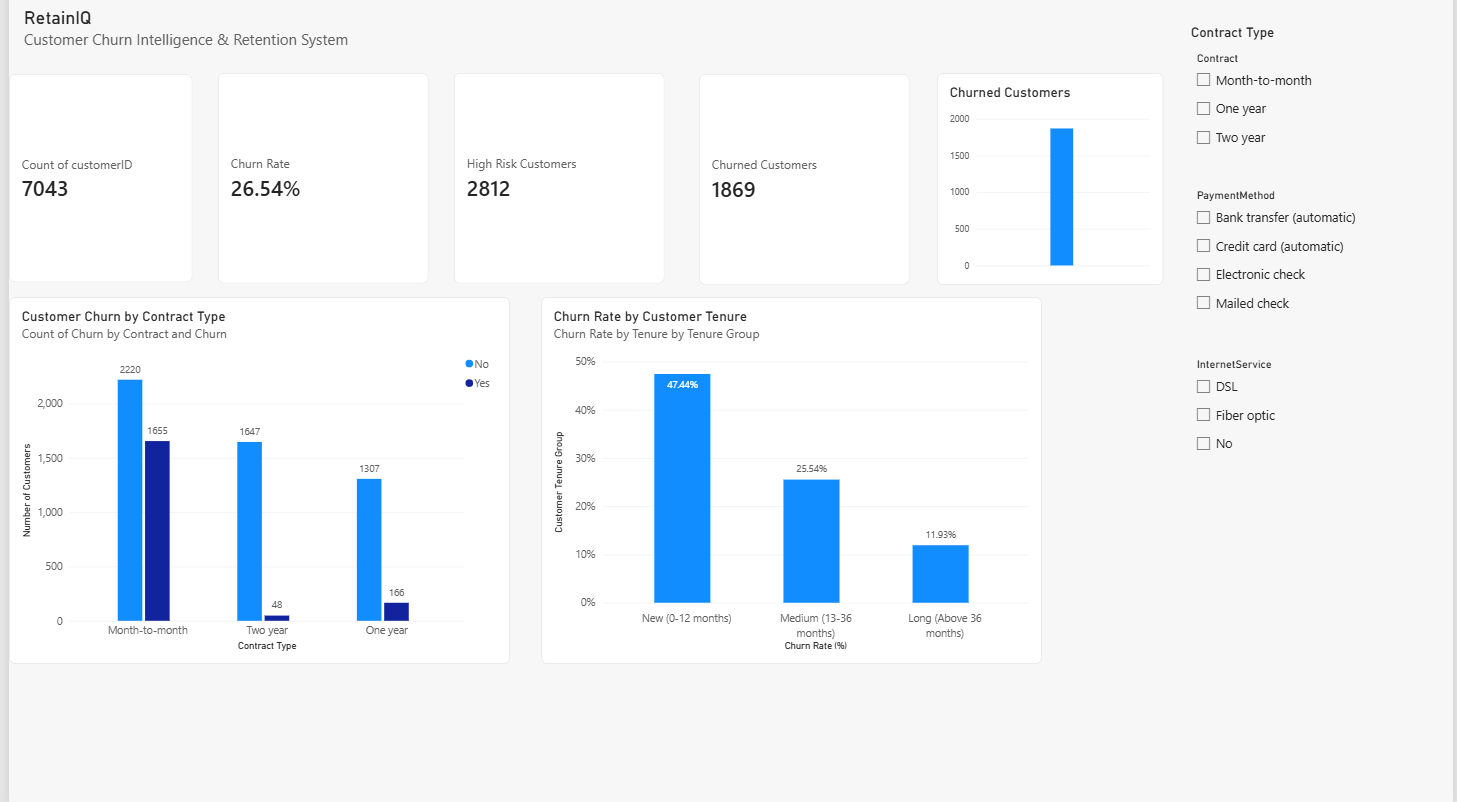

What the dashboard file says about the page in this screenshot:
{"tool":"powerbi","page":{"name":"Executive Overview","canvas":[1920,1080],"ordinal":0},"visuals":[{"type":"cardVisual","title":"Total Customers","fields":{"Data":["Count(customers_for_powerbi.customerID)"]},"box":[0,107.7,244.7,278],"z":0},{"type":"clusteredColumnChart","fields":{"Y":["customers_for_powerbi.Churned Customers"]},"box":[1234.3,106.4,300.6,282],"z":1000},{"type":"cardVisual","fields":{"Data":["customers_for_powerbi.Churn Rate"]},"box":[278,106.4,280,280],"z":2000},{"type":"cardVisual","fields":{"Data":["customer_risk_segments.High Risk Customers"]},"box":[591.9,106.4,280,280],"z":3000},{"type":"cardVisual","fields":{"Data":["customers_for_powerbi.Churned Customers"]},"box":[917.7,107.7,280,280],"z":4000},{"type":"clusteredColumnChart","title":"Customer Churn by Contract Type","fields":{"Category":["customers_for_powerbi.Contract"],"Series":["customers_for_powerbi.Churn"],"Y":["CountNonNull(customers_for_powerbi.Churn)"]},"box":[0,404.3,665.8,487.7],"z":5000},{"type":"clusteredColumnChart","title":"Churn Rate by Customer Tenure","fields":{"Category":["customers_for_powerbi.Tenure Group"],"Y":["customers_for_powerbi.Churn Rate by Tenure"]},"box":[707.6,404.3,665.8,487.7],"z":6000},{"type":"slicer","title":"Contract Type","fields":{"Values":["customers_for_powerbi.Contract"]},"box":[1572.1,41.2,332.9,248.2],"z":7000},{"type":"slicer","fields":{"Values":["customers_for_powerbi.InternetService"]},"box":[1572.1,485.5,252.6,248.2],"z":8000},{"type":"slicer","fields":{"Values":["customers_for_powerbi.PaymentMethod"]},"box":[1572.1,260.7,236.5,248.2],"z":9000},{"type":"textbox","title":"RetainIQ","box":[20,18.6,506.7,69.2],"z":9001}]}

Visuals, with their boxes in screenshot pixels (x1, y1, x2, y2), scaled from the page's 1920x1080 canvas onto the 1457x802 screenshot:
"Total Customers" cardVisual: 0 80 186 286
clusteredColumnChart - customers_for_powerbi.Churned Customers: 937 79 1165 288
cardVisual - customers_for_powerbi.Churn Rate: 211 79 423 287
cardVisual - customer_risk_segments.High Risk Customers: 449 79 662 287
cardVisual - customers_for_powerbi.Churned Customers: 696 80 909 288
"Customer Churn by Contract Type" clusteredColumnChart: 0 300 505 662
"Churn Rate by Customer Tenure" clusteredColumnChart: 537 300 1042 662
"Contract Type" slicer: 1193 31 1446 215
slicer - customers_for_powerbi.InternetService: 1193 361 1385 545
slicer - customers_for_powerbi.PaymentMethod: 1193 194 1372 378
"RetainIQ" textbox: 15 14 400 65
